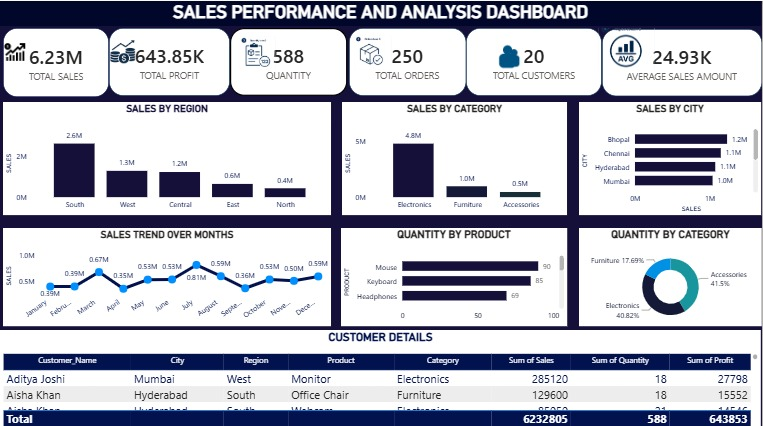

This screenshot's page, from the dashboard's own definition file:
{"tool":"powerbi","page":{"name":"Page 1","canvas":[1280,720],"ordinal":0},"visuals":[{"type":"textbox","title":"SALES  PERFORMANCE AND ANALYSIS DASHBOARD","box":[0,0,1278.3,42],"z":0},{"type":"cardVisual","fields":{"Data":["RAW DATA.TOTAL SALES"]},"box":[5,45.4,178.1,115.9],"z":3000},{"type":"cardVisual","fields":{"Data":["RAW DATA.TOTAL PROFIT"]},"box":[183.1,45.4,203.3,114.2],"z":4000},{"type":"cardVisual","fields":{"Data":["RAW DATA.TOTAL ORDERS"]},"box":[586.2,45.4,196.5,114.2],"z":6000},{"type":"cardVisual","fields":{"Data":["RAW DATA.TOTAL CUSTOMERS"]},"box":[782.8,45.4,228.5,114.2],"z":7000},{"type":"cardVisual","fields":{"Data":["RAW DATA.AVERAGE SALES AMOUNT"]},"box":[1011.2,47,268.8,112.5],"z":8000},{"type":"clusteredColumnChart","title":"SALES BY REGION","fields":{"Category":["RAW DATA.Region"],"Y":["Sum(RAW DATA.Sales)"]},"box":[5,169.7,551,189.8],"z":9000},{"type":"clusteredColumnChart","title":"SALES BY CATEGORY","fields":{"Category":["RAW DATA.Category"],"Y":["Sum(RAW DATA.Sales)"]},"box":[574.5,169.7,378,189.8],"z":10000},{"type":"lineChart","title":"SALES TREND OVER MONTHS","fields":{"Category":["RAW DATA.Order_Date.Variation.Date Hierarchy.Month"],"Y":["Sum(RAW DATA.Sales)"]},"box":[5,381.3,551,164.6],"z":11000},{"type":"clusteredBarChart","title":"SALES BY CITY","fields":{"Category":["RAW DATA.City"],"Y":["Sum(RAW DATA.Sales)"]},"box":[972.6,169.7,305.7,189.8],"z":12000},{"type":"tableEx","title":"CUSTOMER DETAILS","fields":{"Values":["RAW DATA.Customer_Name","RAW DATA.City","RAW DATA.Region","RAW DATA.Product","RAW DATA.Category","Sum(RAW DATA.Sales)","Sum(RAW DATA.Quantity)","Sum(RAW DATA.Profit)"]},"box":[0,552.7,1278.3,168],"z":13000},{"type":"clusteredBarChart","title":"QUANTITY BY PRODUCT","fields":{"Category":["RAW DATA.Product"],"Y":["Sum(RAW DATA.Quantity)"]},"box":[572.8,381.3,379.6,164.6],"z":14000},{"type":"donutChart","title":"QUANTITY BY CATEGORY","fields":{"Category":["RAW DATA.Category"],"Y":["Sum(RAW DATA.Quantity)"]},"box":[972.6,381.3,307.4,164.6],"z":15000},{"type":"image","box":[5,62.2,38.6,47],"z":15002},{"type":"image","box":[183.1,52.1,48.7,68.9],"z":15003},{"type":"image","box":[582.9,57.1,85.7,58.8],"z":15005},{"type":"image","box":[1002.8,40.3,99.1,80.6],"z":15006},{"type":"image","box":[808,67.2,89,48.7],"z":15007},{"type":"cardVisual","fields":{"Data":["Sum(RAW DATA.Quantity)"]},"box":[386.4,45.4,196.5,114.2],"z":15008},{"type":"image","box":[401.5,53.8,63.8,67.2],"z":15009}]}

Visuals, with their boxes in screenshot pixels (x1, y1, x2, y2), scaled from the page's 1280x720 canvas onto the 763x426 screenshot:
"SALES  PERFORMANCE AND ANALYSIS DASHBOARD" textbox: 0:0:762:25
cardVisual - RAW DATA.TOTAL SALES: 3:27:109:95
cardVisual - RAW DATA.TOTAL PROFIT: 109:27:230:94
cardVisual - RAW DATA.TOTAL ORDERS: 349:27:467:94
cardVisual - RAW DATA.TOTAL CUSTOMERS: 467:27:603:94
cardVisual - RAW DATA.AVERAGE SALES AMOUNT: 603:28:762:94
"SALES BY REGION" clusteredColumnChart: 3:100:331:213
"SALES BY CATEGORY" clusteredColumnChart: 342:100:568:213
"SALES TREND OVER MONTHS" lineChart: 3:226:331:323
"SALES BY CITY" clusteredBarChart: 580:100:762:213
"CUSTOMER DETAILS" tableEx: 0:327:762:425
"QUANTITY BY PRODUCT" clusteredBarChart: 341:226:568:323
"QUANTITY BY CATEGORY" donutChart: 580:226:762:323
image: 3:37:26:65
image: 109:31:138:72
image: 347:34:399:69
image: 598:24:657:72
image: 482:40:535:69
cardVisual - Sum(RAW DATA.Quantity): 230:27:347:94
image: 239:32:277:72
